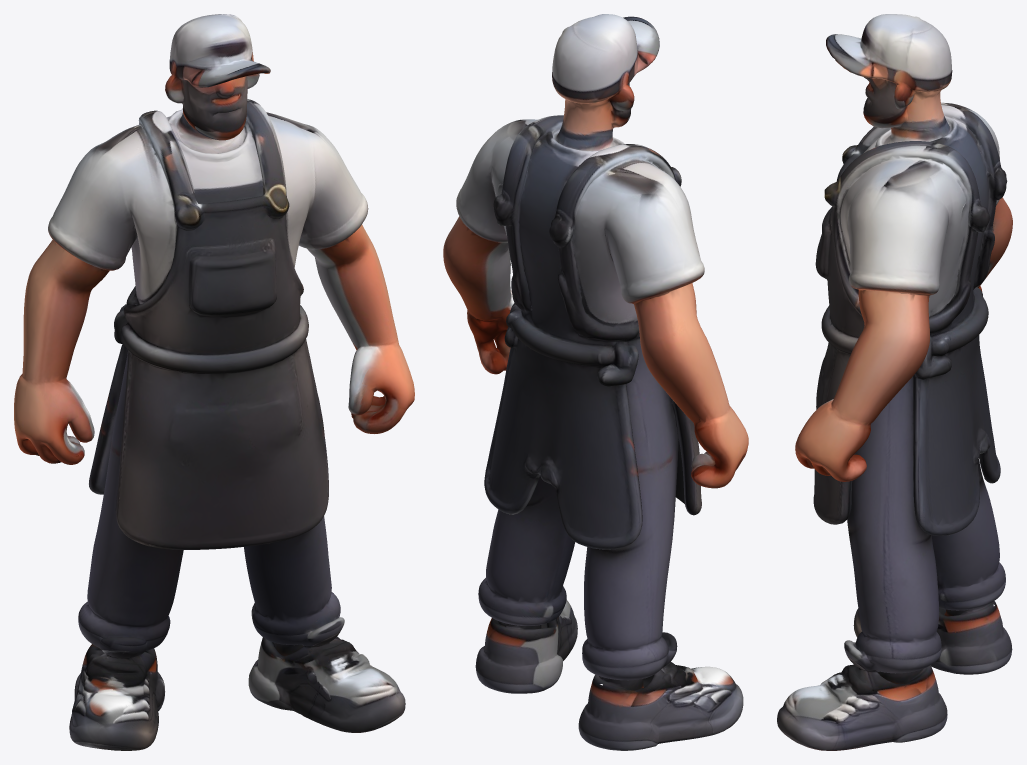
Rendered from citizen-office.glb.
3 renders of one model, left to right at view 1: azimuth 30°, elevation 25°; view 2: azimuth 150°, elevation 25°; view 3: azimuth 270°, elevation 25°, orthographic. The views are drawn at different scales.
Visible parts, largest first — view 1: tripo_node_247dab1a-e2de-4793-8d5f-7ac08a8ef67a; view 2: tripo_node_247dab1a-e2de-4793-8d5f-7ac08a8ef67a; view 3: tripo_node_247dab1a-e2de-4793-8d5f-7ac08a8ef67a.
Part boxes in pixels (<box>): tripo_node_247dab1a-e2de-4793-8d5f-7ac08a8ef67a: <box>14,14,414,750</box>; tripo_node_247dab1a-e2de-4793-8d5f-7ac08a8ef67a: <box>443,14,748,750</box>; tripo_node_247dab1a-e2de-4793-8d5f-7ac08a8ef67a: <box>777,14,1012,750</box>.
Size of the model in its own units: 0.4975 by 1 by 0.3192.
1 material, 1 textured.
